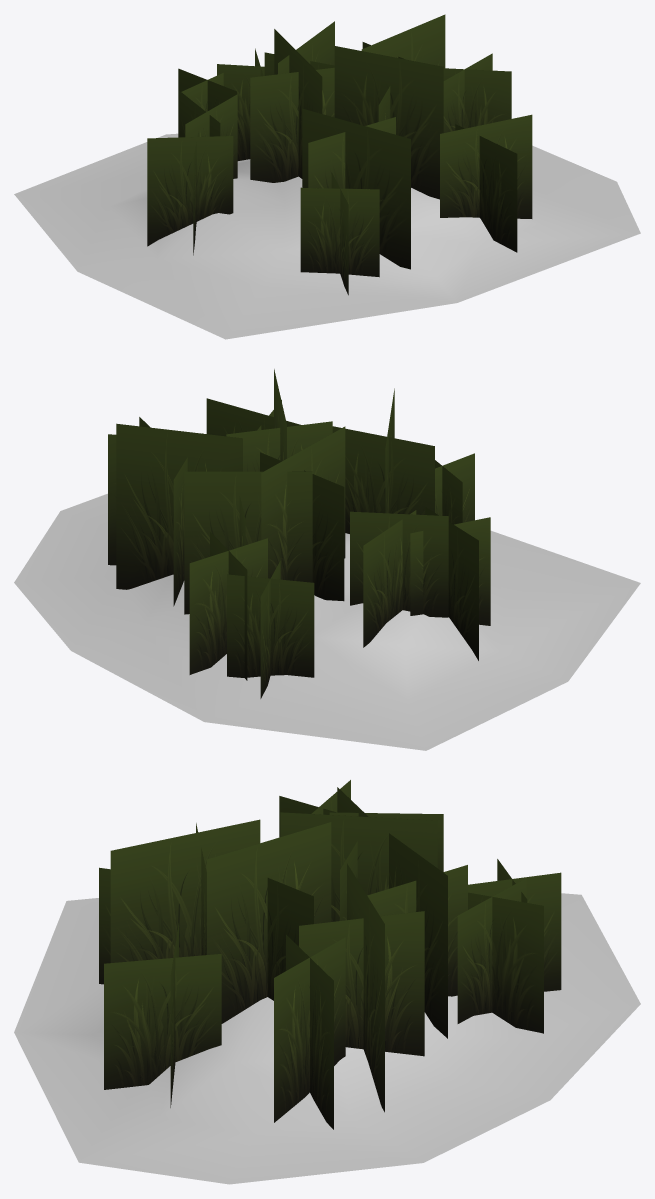
File: Soil_Grass_02.fbx
3 renders of one model, top to bottom at view 1: azimuth 30°, elevation 25°; view 2: azimuth 150°, elevation 25°; view 3: azimuth 270°, elevation 25°, orthographic. The views are drawn at different scales.
Parts seen in each view (by area): view 1: Soil_Grass_02; view 2: Soil_Grass_02; view 3: Soil_Grass_02.
Part boxes in pixels (x1,y1,x2,y2): Soil_Grass_02: [14, 14, 640, 339]; Soil_Grass_02: [14, 369, 640, 750]; Soil_Grass_02: [14, 780, 640, 1184].
Size of the model in its own units: 5.44 by 4.66 by 1.81.
